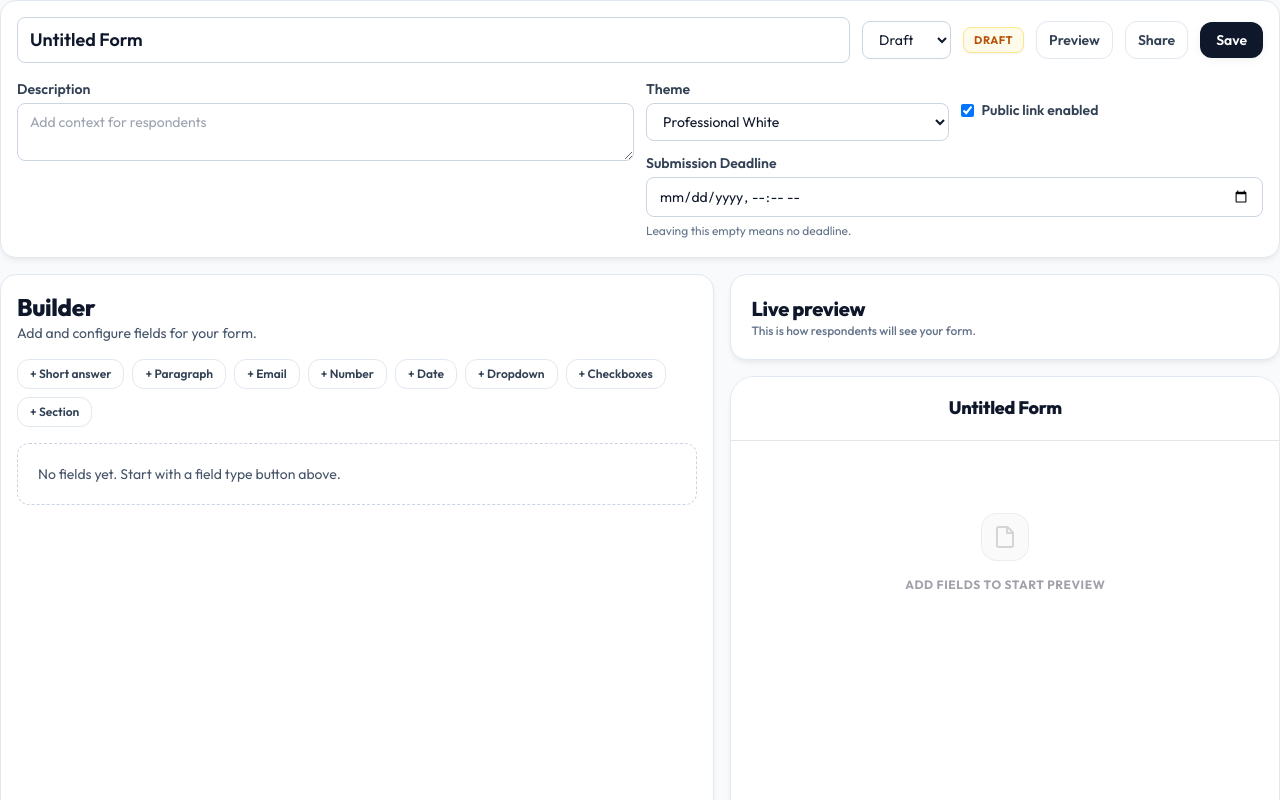
Test case: FormBuilderPage › allows adding a new field
The image size is (1280, 800).
Click the button "+ Short answer": (71, 374) [17, 359, 124, 389]
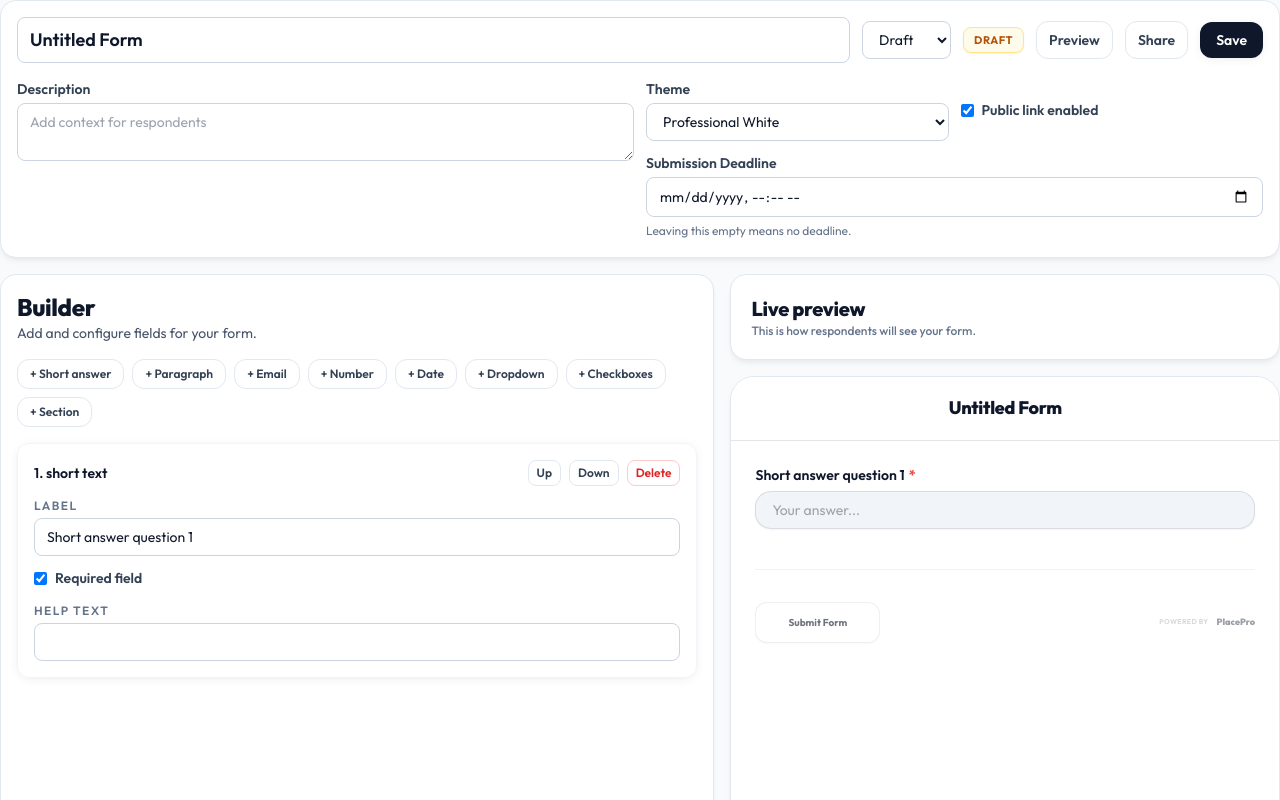
Result: the text "Short answer question 1*" is shown at [755, 466, 916, 484]
